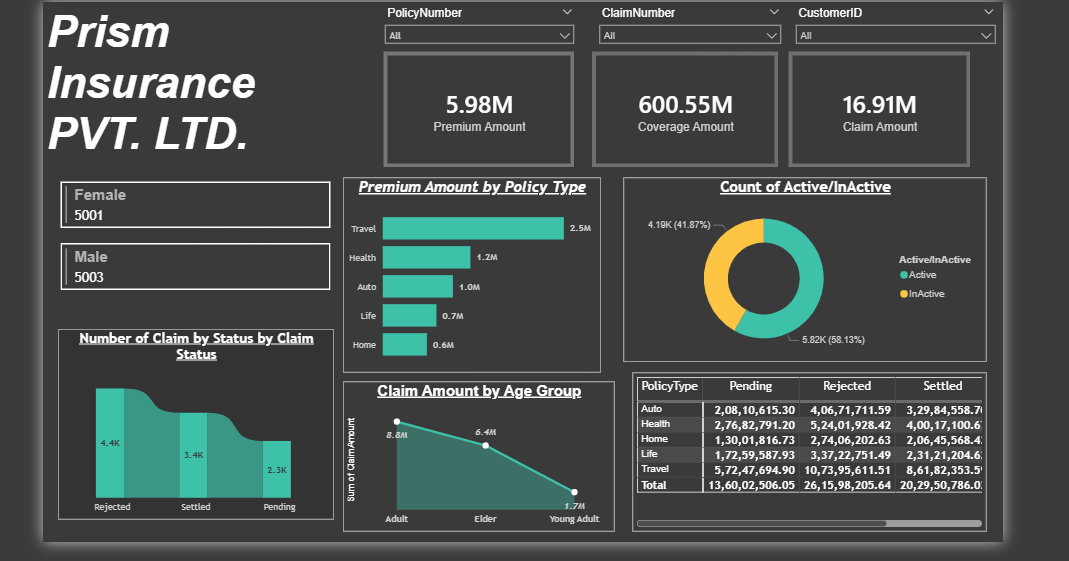

This screenshot's page, from the dashboard's own definition file:
{"tool":"powerbi","page":{"name":"Page 1","canvas":[1280,720],"ordinal":0},"visuals":[{"type":"slicer","fields":{"Values":["InsuranceData.PolicyNumber"]},"box":[446,0,272,66],"z":0},{"type":"slicer","fields":{"Values":["InsuranceData.ClaimNumber"]},"box":[732,0,262,66],"z":1},{"type":"slicer","fields":{"Values":["InsuranceData.CustomerID"]},"box":[994,0,286,104],"z":2},{"type":"textbox","box":[0,0,370,220],"z":3},{"type":"cardVisual","fields":{"Data":["Sum(InsuranceData.PremiumAmount)"]},"box":[454,66,254,154],"z":4},{"type":"cardVisual","fields":{"Data":["Sum(InsuranceData.CoverageAmount)"]},"box":[732,66,248,154],"z":5},{"type":"cardVisual","fields":{"Data":["Sum(InsuranceData.ClaimAmount)"]},"box":[994,66,242,154],"z":6},{"type":"multiRowCard","fields":{"Values":["InsuranceData.Gender","CountNonNull(InsuranceData.Gender)"]},"box":[18,234,370,220],"z":7},{"type":"ribbonChart","title":"Number of  Claim by Status by Claim Status","fields":{"Category":["InsuranceData.ClaimStatus"],"Y":["CountNonNull(InsuranceData.ClaimStatus)"]},"box":[20,436,368,254],"z":8},{"type":"barChart","title":" Premium Amount by Policy Type","fields":{"Category":["InsuranceData.PolicyType"],"Y":["Sum(InsuranceData.PremiumAmount)"]},"box":[400,234,344,260],"z":10},{"type":"lineChart","title":"Claim Amount by  Age Group","fields":{"Category":["InsuranceData. Age Group"],"Y":["Sum(InsuranceData.ClaimAmount)"]},"box":[400,506,362,200],"z":11},{"type":"donutChart","title":"Count of Active/InActive","fields":{"Category":["InsuranceData.Active/InActive"],"Y":["CountNonNull(InsuranceData.Active/InActive)"]},"box":[774,234,484,246],"z":12},{"type":"pivotTable","fields":{"Rows":["InsuranceData.PolicyType"],"Values":["Sum(InsuranceData.CoverageAmount)"],"Columns":["InsuranceData.ClaimStatus"]},"box":[786,494,472,212],"z":13}]}

Visuals, with their boxes on the page's 1280x720 design canvas (x1, y1, x2, y2). These are canvas units, not pixel positions in the 1069x561 screenshot, which may show the page scaled, cropped or inside an application window:
slicer - InsuranceData.PolicyNumber: {"left": 446, "top": 0, "right": 718, "bottom": 66}
slicer - InsuranceData.ClaimNumber: {"left": 732, "top": 0, "right": 994, "bottom": 66}
slicer - InsuranceData.CustomerID: {"left": 994, "top": 0, "right": 1280, "bottom": 104}
textbox: {"left": 0, "top": 0, "right": 370, "bottom": 220}
cardVisual - Sum(InsuranceData.PremiumAmount): {"left": 454, "top": 66, "right": 708, "bottom": 220}
cardVisual - Sum(InsuranceData.CoverageAmount): {"left": 732, "top": 66, "right": 980, "bottom": 220}
cardVisual - Sum(InsuranceData.ClaimAmount): {"left": 994, "top": 66, "right": 1236, "bottom": 220}
multiRowCard - InsuranceData.Gender x CountNonNull(InsuranceData.Gender): {"left": 18, "top": 234, "right": 388, "bottom": 454}
"Number of  Claim by Status by Claim Status" ribbonChart: {"left": 20, "top": 436, "right": 388, "bottom": 690}
" Premium Amount by Policy Type" barChart: {"left": 400, "top": 234, "right": 744, "bottom": 494}
"Claim Amount by  Age Group" lineChart: {"left": 400, "top": 506, "right": 762, "bottom": 706}
"Count of Active/InActive" donutChart: {"left": 774, "top": 234, "right": 1258, "bottom": 480}
pivotTable - InsuranceData.PolicyType x Sum(InsuranceData.CoverageAmount): {"left": 786, "top": 494, "right": 1258, "bottom": 706}
